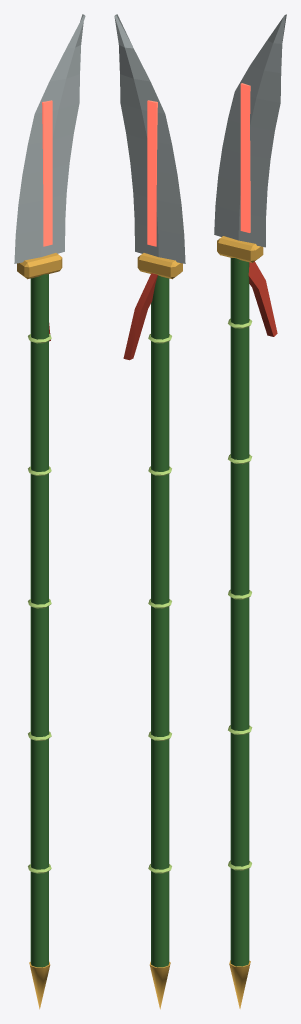
The model's file is glaive.glb.
The picture shows the model from 3 angles, left to right: view 1: azimuth 30°, elevation 25°; view 2: azimuth 150°, elevation 25°; view 3: azimuth 330°, elevation 25°; orthographic projection. The views are drawn at different scales.
Parts seen in each view (by area): view 1: Sword; view 2: Sword; view 3: Sword.
Part boxes in pixels (box(x1,y1,x2,y2)): Sword: box(14, 14, 85, 1009); Sword: box(114, 14, 185, 1009); Sword: box(214, 14, 286, 1008).
Size of the model in its own units: 0.2213 by 2.97 by 0.1139.
